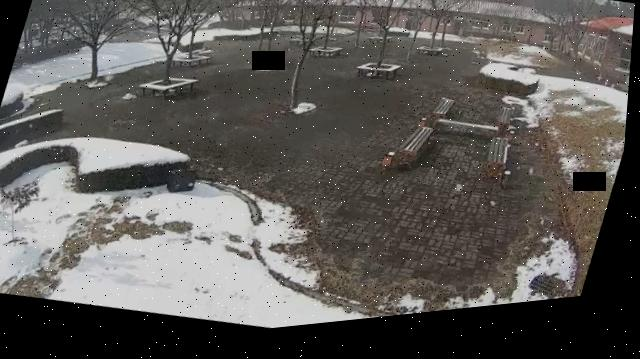bag: (165, 166, 201, 203)
